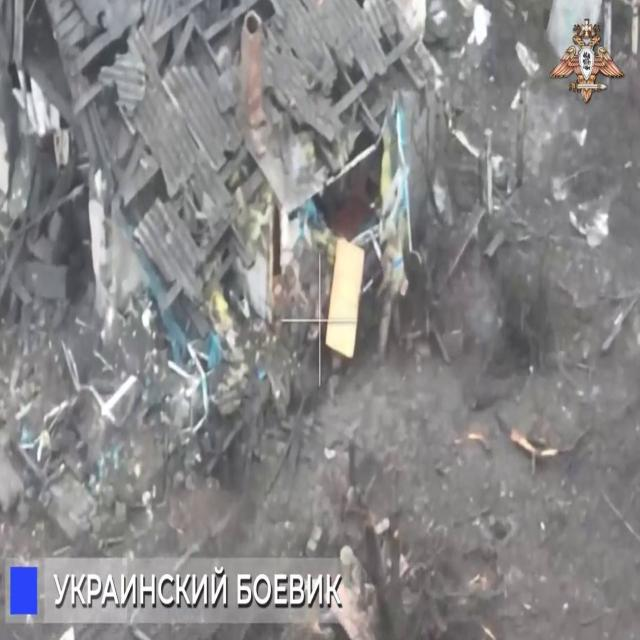fortification: (56, 0, 461, 427)
infantry: (369, 208, 416, 367)
